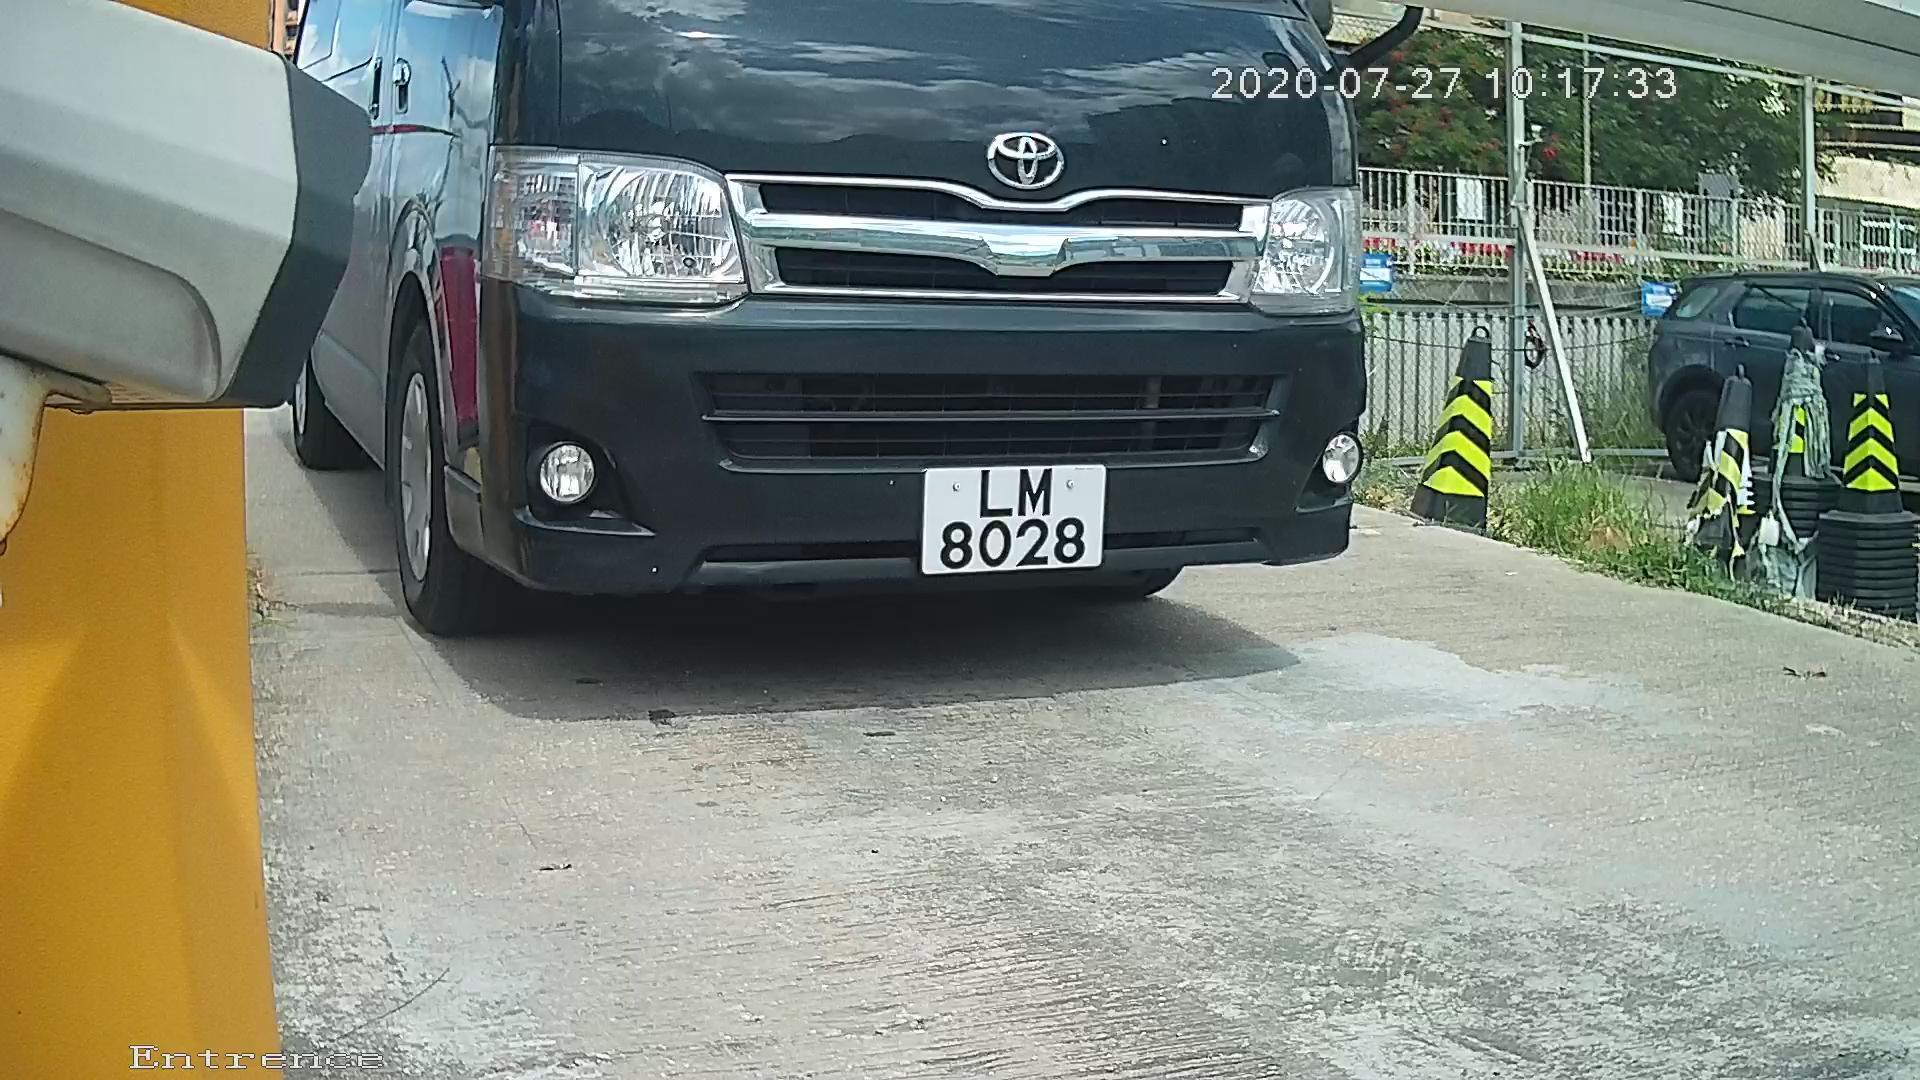Car: (189, 25, 1543, 700)
License Plate: (901, 459, 1115, 579)
